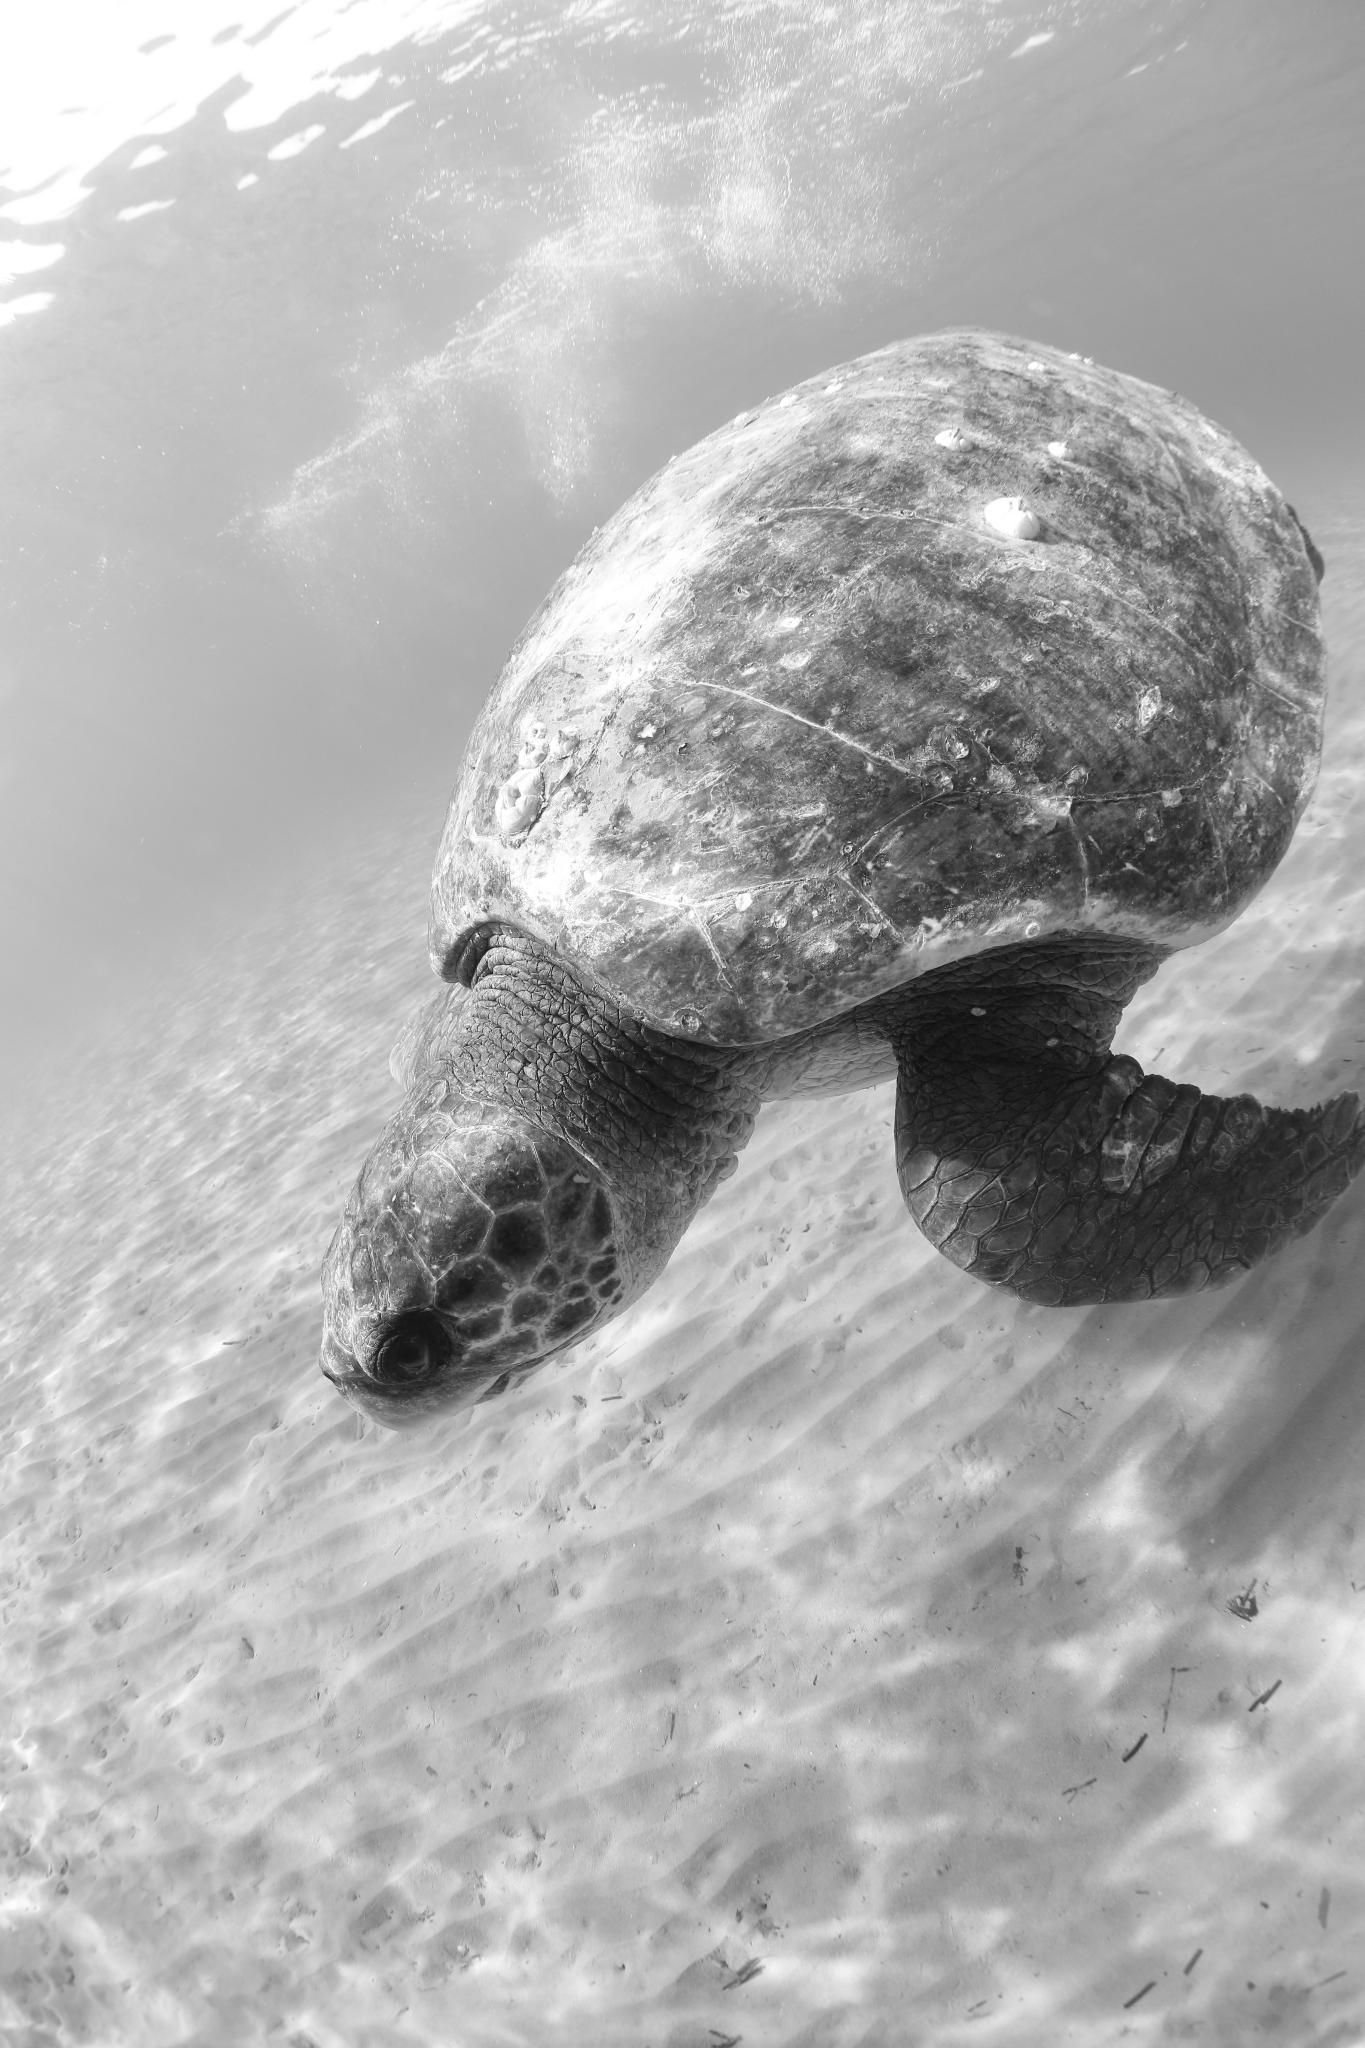Head: (320, 928, 761, 1425)
